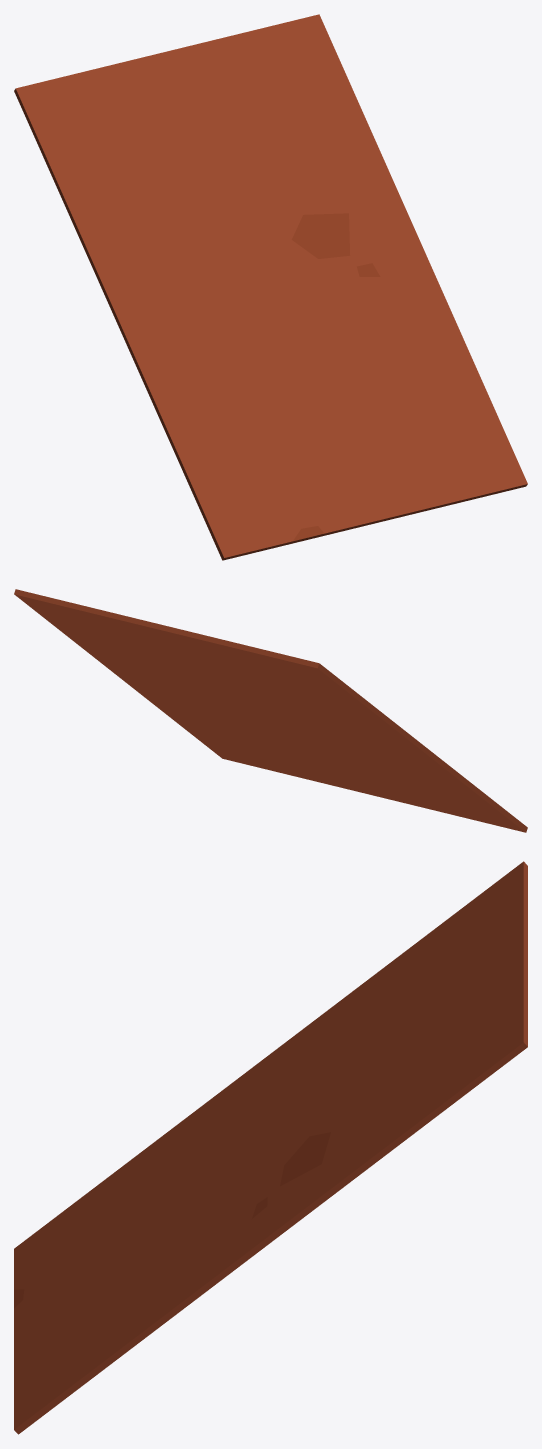
File: Roof_07_2.fbx
3 views of the same model, one above another, from view 1: azimuth 30°, elevation 25°; view 2: azimuth 150°, elevation 25°; view 3: azimuth 270°, elevation 25° (orthographic). The views are drawn at different scales.
Visible parts, largest first — view 1: Roof_07_2_LOD0; view 2: Roof_07_2_LOD0; view 3: Roof_07_2_LOD0.
Part boxes in pixels (x1,y1,x2,y2): Roof_07_2_LOD0: (14,14,527,560); Roof_07_2_LOD0: (14,589,527,832); Roof_07_2_LOD0: (14,861,527,1434).
Size of what is drawn, in the model's own units: 500 by 505 by 600.
